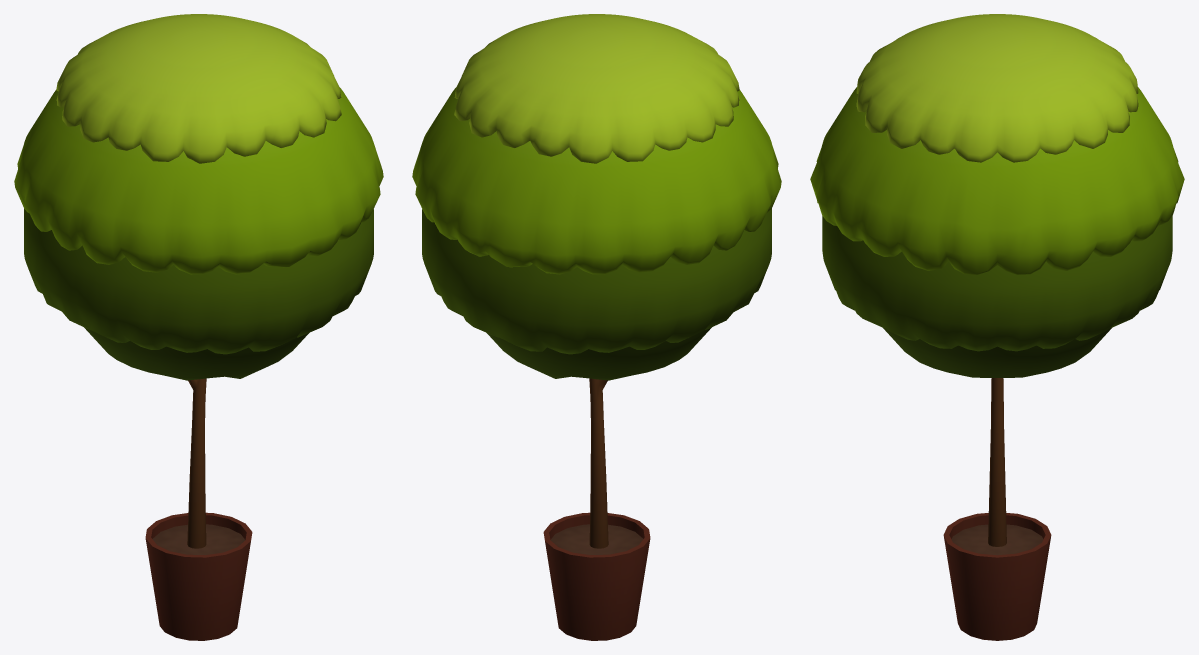
Rendered from TreeInPot.FBX.
The picture shows the model from 3 angles, left to right: view 1: azimuth 30°, elevation 25°; view 2: azimuth 150°, elevation 25°; view 3: azimuth 270°, elevation 25°; orthographic projection.
Parts seen in each view (by area): view 1: TreeInPot; view 2: TreeInPot; view 3: TreeInPot.
Part boxes in pixels (x1,y1,x2,y2): TreeInPot: [14, 14, 383, 640]; TreeInPot: [412, 14, 781, 640]; TreeInPot: [810, 14, 1184, 640].
Size of the model in its own units: 82.67 by 147 by 85.02.
Materials: 1 (1 with a texture image).
